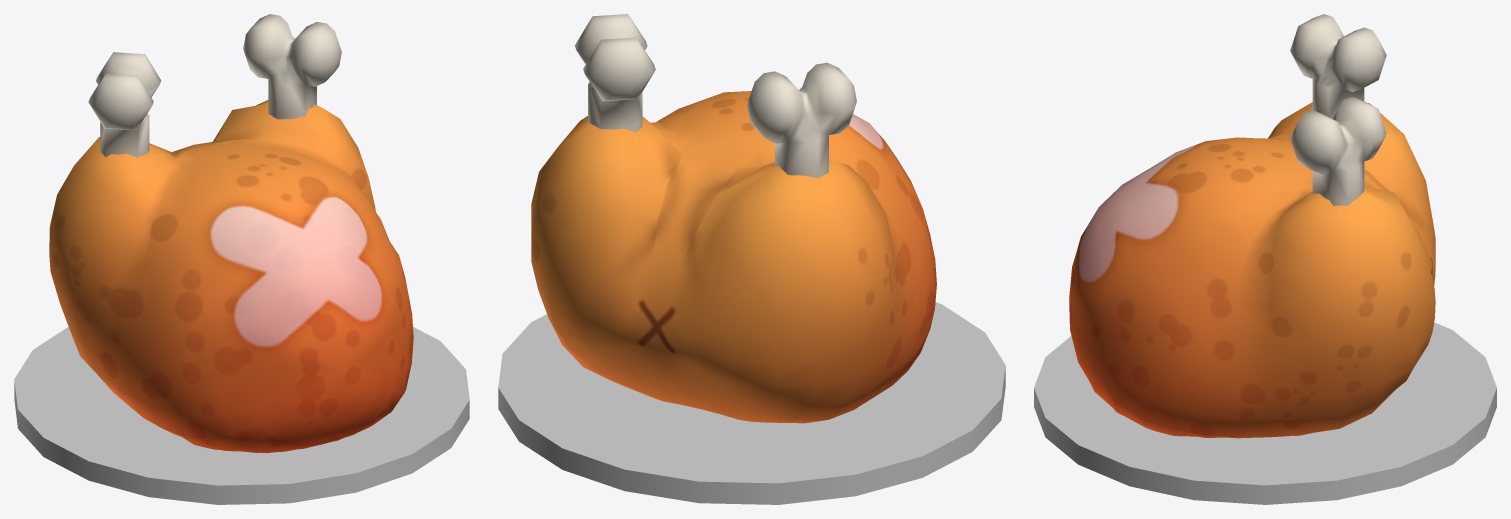
The model's file is LootBox_EnemyDie_Template.fbx.
3 views of the same model, side by side, from view 1: azimuth 30°, elevation 25°; view 2: azimuth 150°, elevation 25°; view 3: azimuth 270°, elevation 25° (orthographic). The views are drawn at different scales.
Parts seen in each view (by area): view 1: BBQChicken, rr; view 2: BBQChicken, rr; view 3: BBQChicken, rr.
Boxes of the visible parts, x1=… form: BBQChicken: x1=49, y1=14, x2=413, y2=453; rr: x1=14, y1=327, x2=469, y2=504; BBQChicken: x1=531, y1=14, x2=936, y2=423; rr: x1=498, y1=302, x2=1005, y2=504; BBQChicken: x1=1069, y1=14, x2=1435, y2=438; rr: x1=1034, y1=322, x2=1496, y2=504.
Size of the model in its own units: 0.8544 by 0.6916 by 0.8544.
